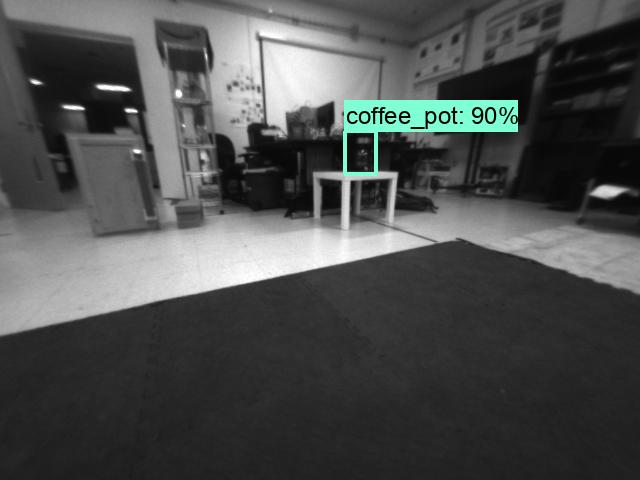coffee_pot: (343, 133, 376, 172)
